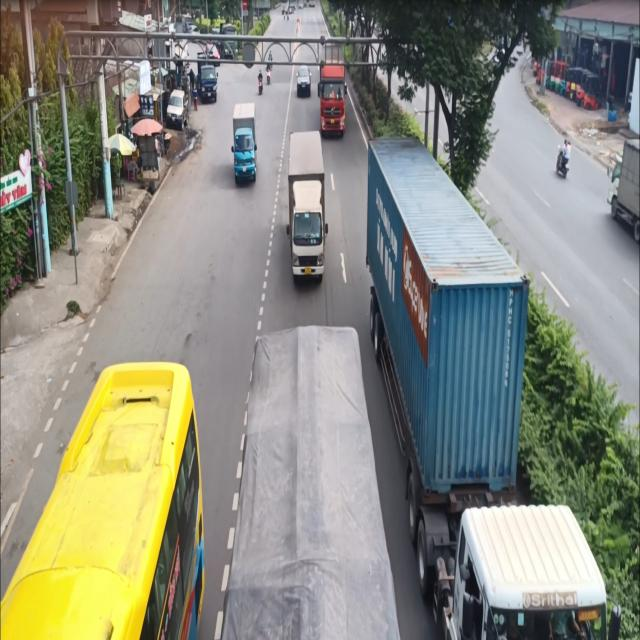car: (295, 67, 310, 101)
truck: (368, 125, 624, 640), (284, 124, 330, 282), (232, 91, 262, 186)
